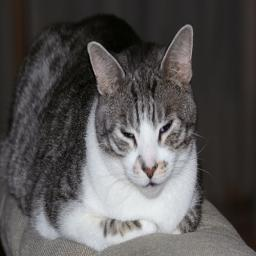catnose: (142, 165, 158, 180)
